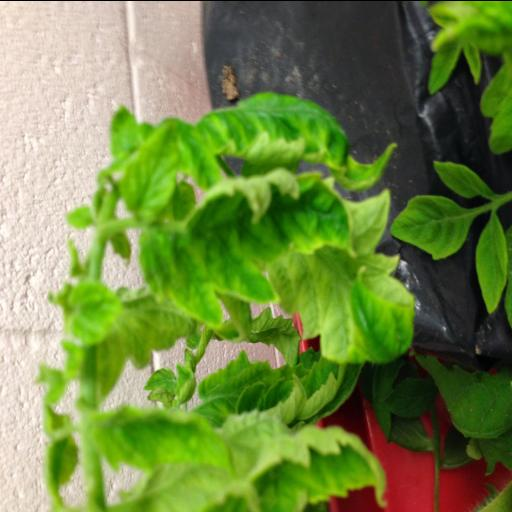Yellow Leaf Curl Virus: (122, 162, 366, 328), (106, 88, 398, 224), (74, 390, 238, 474), (392, 188, 478, 256)
